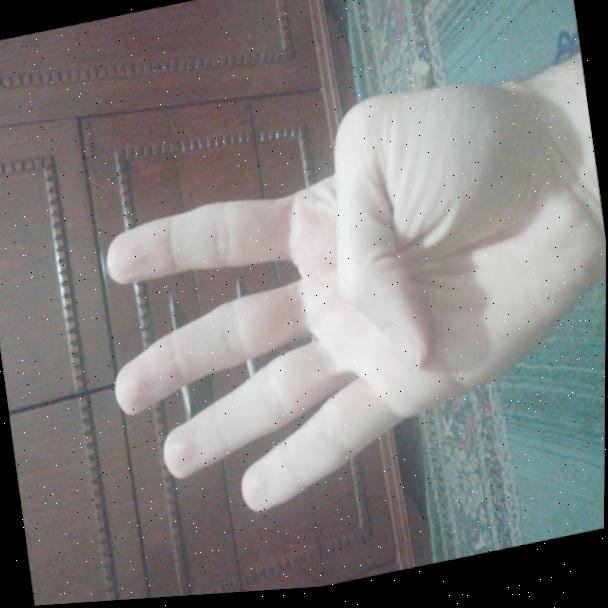four: (73, 43, 608, 572)
